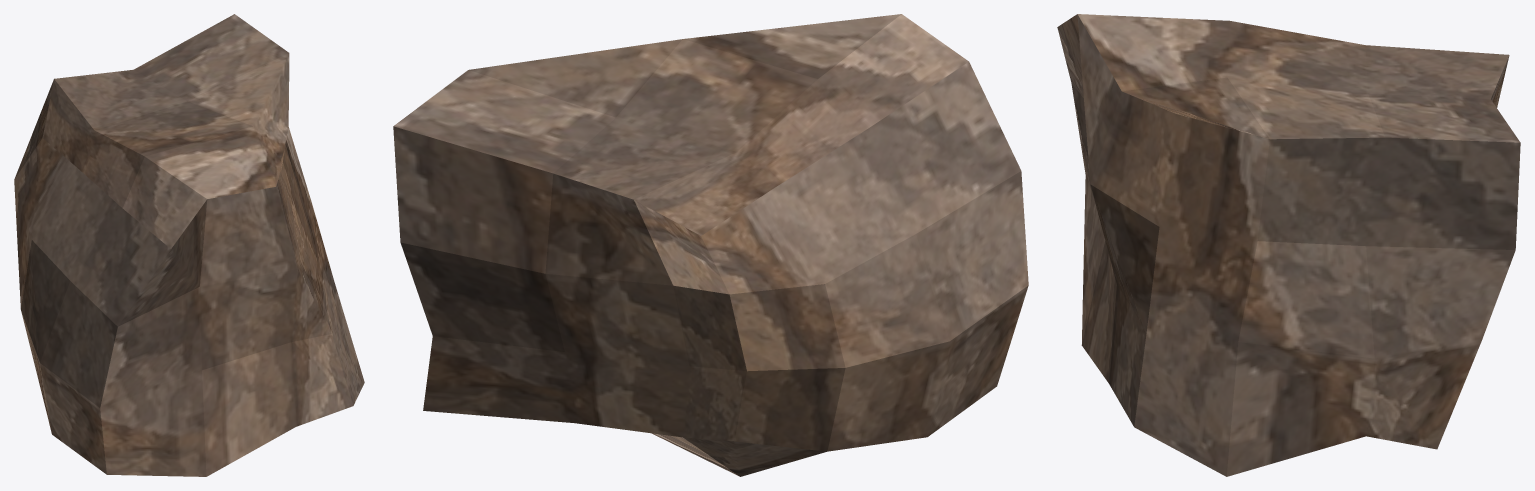
The model's file is rock-m-blocky.glb.
3 views of the same model, side by side, from view 1: azimuth 30°, elevation 25°; view 2: azimuth 150°, elevation 25°; view 3: azimuth 270°, elevation 25° (orthographic). The views are drawn at different scales.
Visible parts, largest first — view 1: rock-m-blocky; view 2: rock-m-blocky; view 3: rock-m-blocky.
Boxes of the visible parts, <box> form: rock-m-blocky: <box>14,14,364,476</box>; rock-m-blocky: <box>393,14,1028,476</box>; rock-m-blocky: <box>1057,14,1520,476</box>.
Bounding box in the file's own units: 2.09 × 1.71 × 2.15.
1 material, 1 textured.
